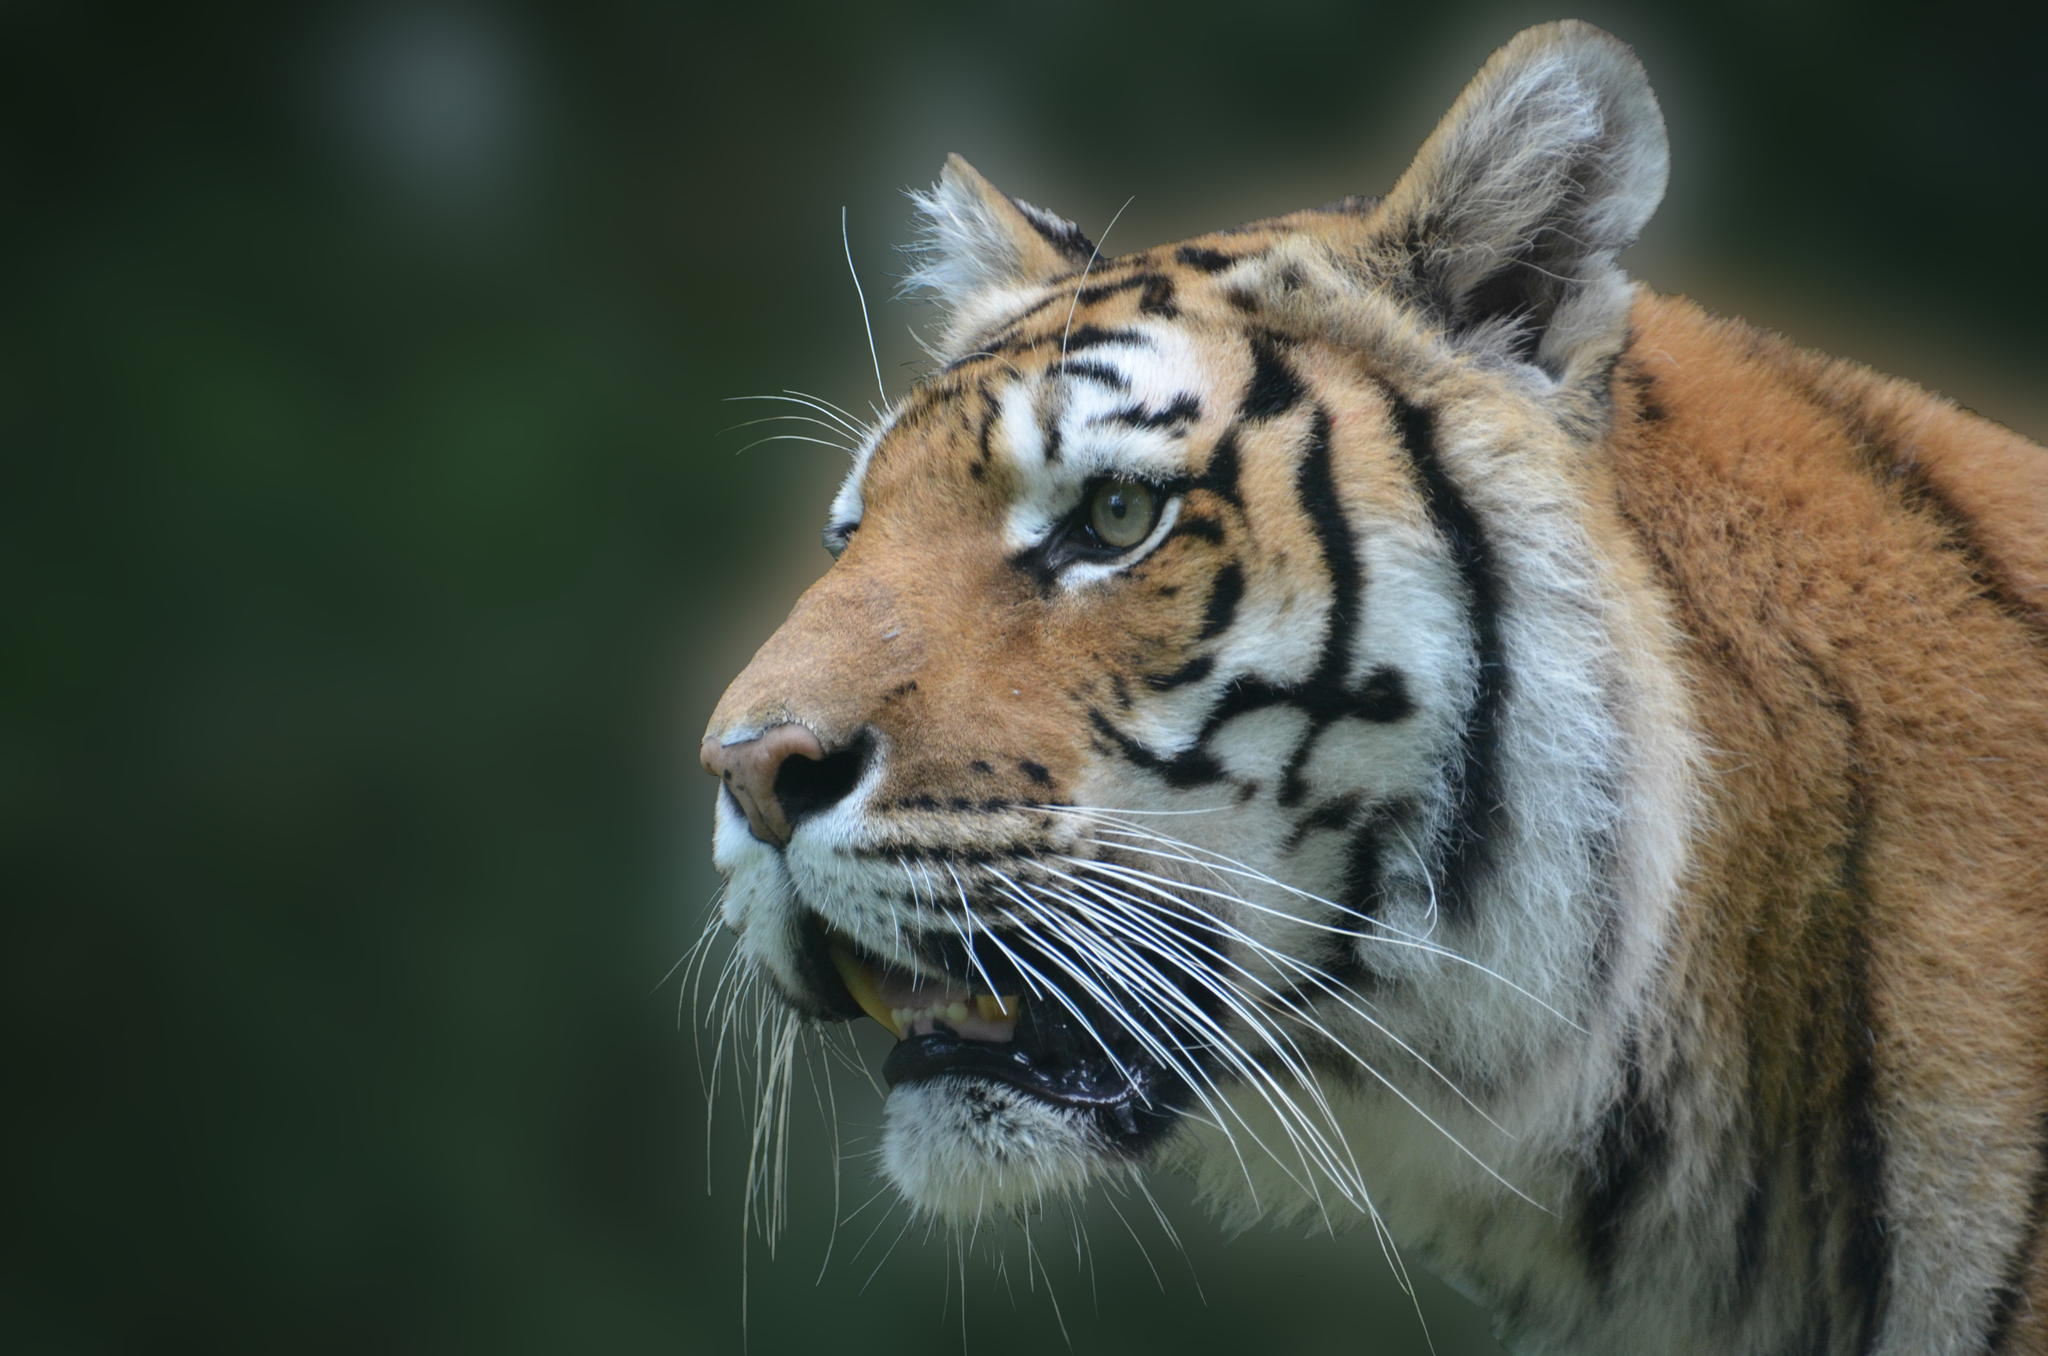tiger: (600, 135, 2048, 1253)
